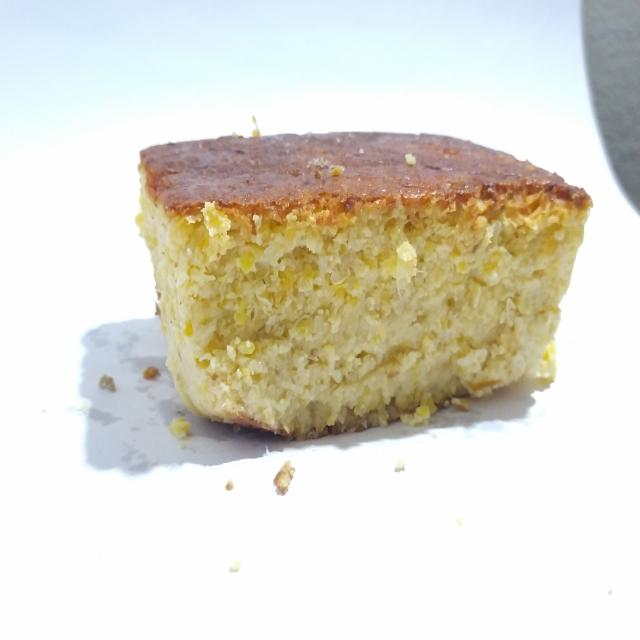Food: (126, 102, 597, 456)
